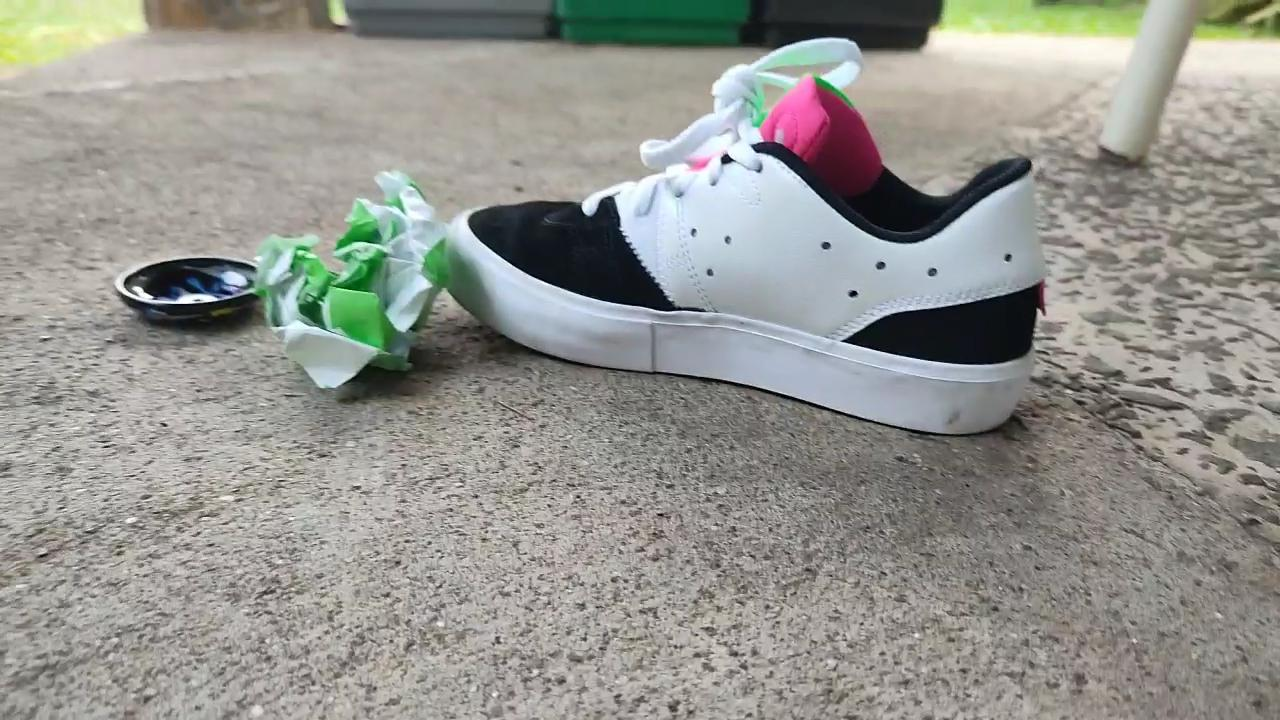Paper: (254, 142, 452, 403)
